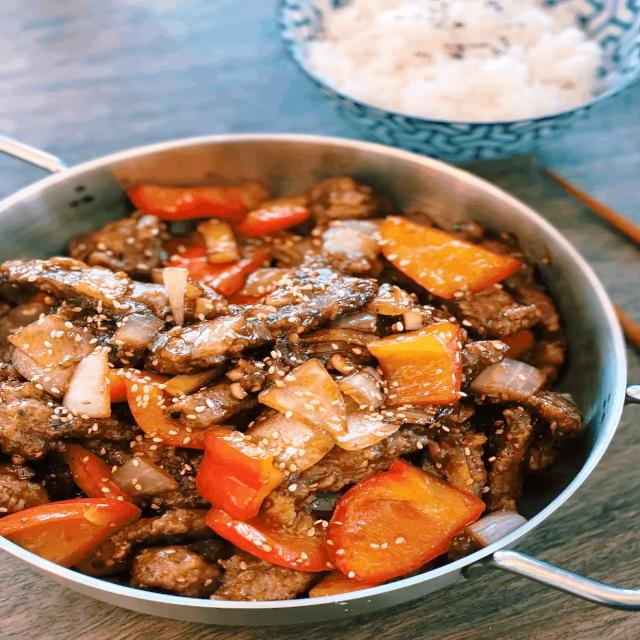Beijing Beef: (0, 183, 587, 602)
rice: (308, 1, 606, 120)
